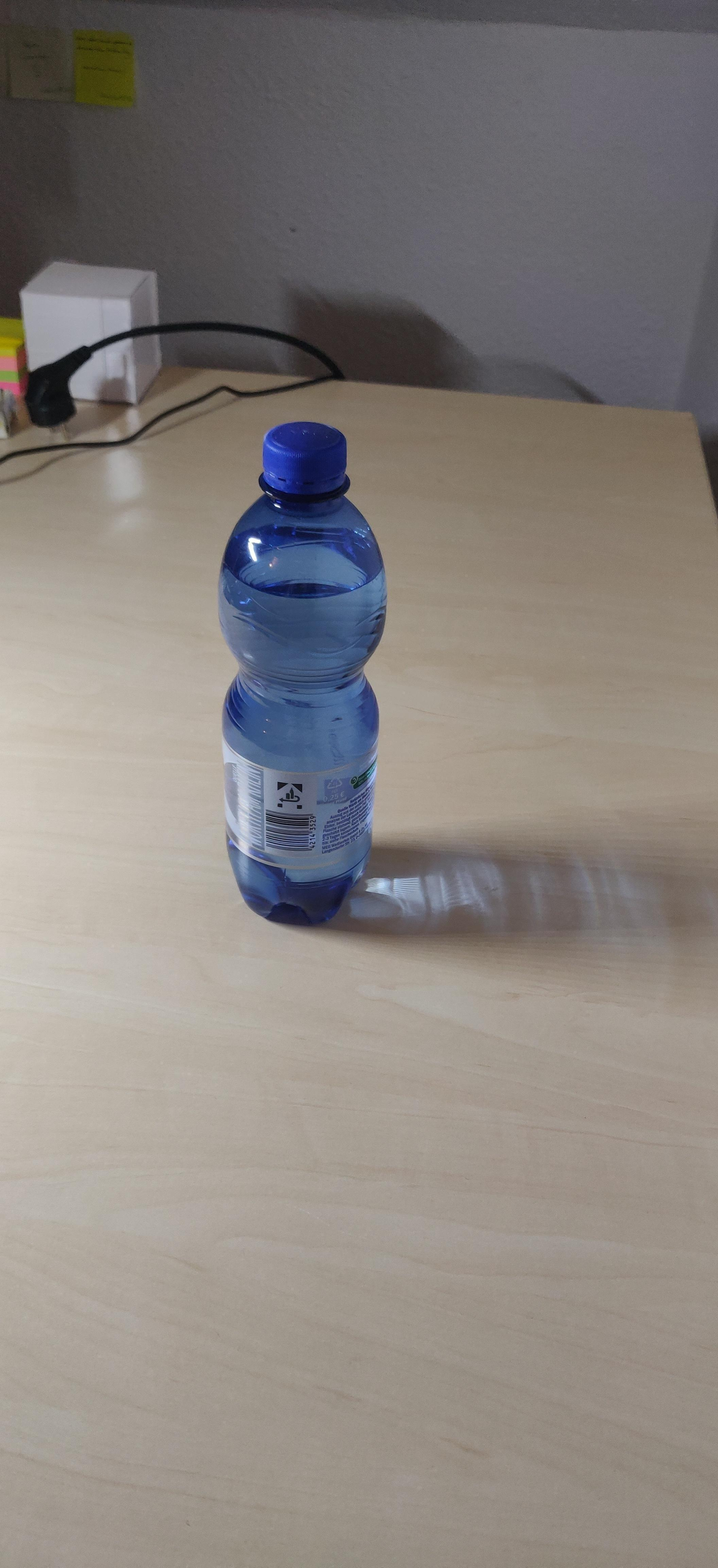bottle-plastic: (215, 423, 389, 927)
